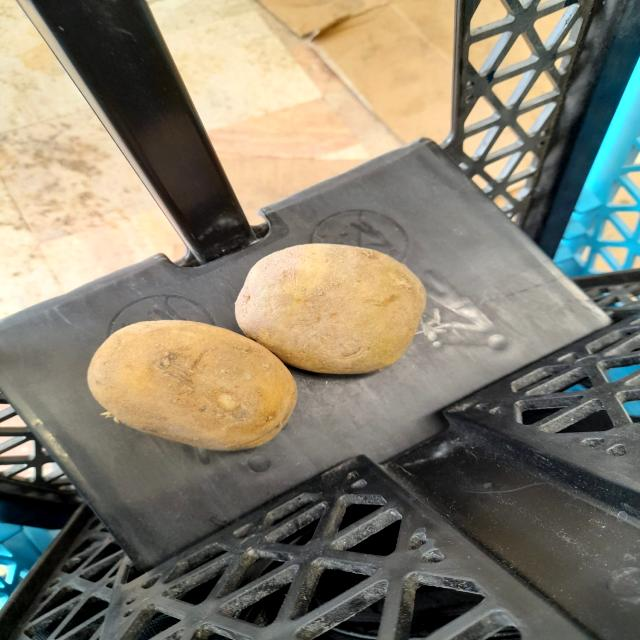potato: (67, 312, 313, 456), (226, 228, 434, 382)
